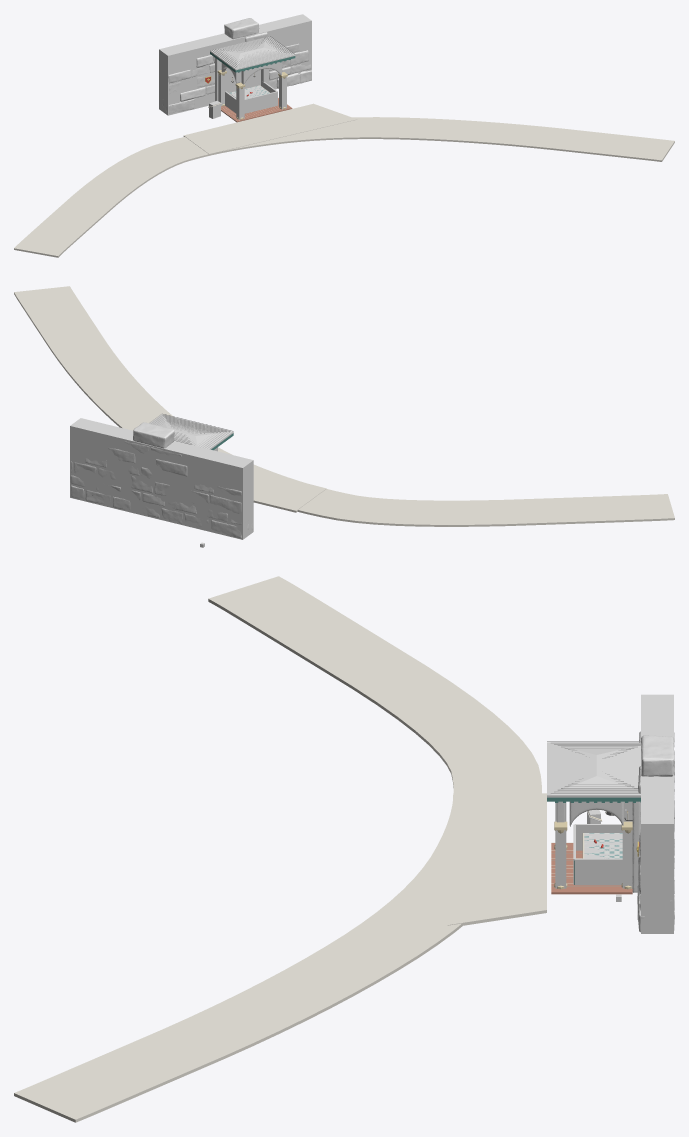
Rendered from RD_loggia.fbx.
3 renders of one model, top to bottom at view 1: azimuth 30°, elevation 25°; view 2: azimuth 150°, elevation 25°; view 3: azimuth 270°, elevation 25°, orthographic. The views are drawn at different scales.
Visible parts, largest first — view 1: static__MAT_grind_0, COLL_9, static__TEX_pannen_0, static__TEX_rots_2, static__TEX_rots_6, static__TEX_rots_0, static__TEX_rots_1, static__TEX_stuc_0, static__TEX_rots_3, COLL_7, static__MAT_baksteen_0, static__TEX_mural_0; view 2: static__MAT_grind_0, COLL_9, static__TEX_rots_1, static__TEX_rots_0, static__TEX_pannen_0, static__TEX_rots_6, static__TEX_rots_2, static__TEX_rots_4, static__TEX_rots_5, static__TEX_rots_3; view 3: static__MAT_grind_0, COLL_9, static__TEX_pannen_0, COLL_8, static__MAT_baksteen_0, static__TEX_rots_6, static__TEX_stuc_1, static__TEX_rots_1, static__TEX_stuc_0, COLL_5.
Boxes of the visible parts, x1,y1,x2,y2 form: static__MAT_grind_0: (14, 103, 674, 257); COLL_9: (159, 14, 311, 115); static__TEX_pannen_0: (210, 36, 295, 70); static__TEX_rots_2: (162, 44, 311, 112); static__TEX_rots_6: (224, 18, 300, 88); static__TEX_rots_0: (163, 34, 231, 113); static__TEX_rots_1: (224, 18, 290, 87); static__TEX_stuc_0: (215, 58, 282, 101); static__TEX_rots_3: (192, 55, 214, 97); COLL_7: (244, 91, 277, 113); static__MAT_baksteen_0: (221, 98, 292, 122); static__TEX_mural_0: (225, 68, 260, 90); static__MAT_grind_0: (14, 286, 674, 526); COLL_9: (70, 418, 253, 539); static__TEX_rots_1: (97, 422, 174, 517); static__TEX_rots_0: (162, 442, 252, 537); static__TEX_pannen_0: (149, 413, 233, 449); static__TEX_rots_6: (87, 422, 174, 509); static__TEX_rots_2: (70, 458, 253, 538); static__TEX_rots_4: (149, 441, 180, 523); static__TEX_rots_5: (123, 440, 154, 515); static__TEX_rots_3: (180, 454, 215, 530); static__MAT_grind_0: (14, 576, 546, 1122); COLL_9: (641, 694, 673, 933); static__TEX_pannen_0: (547, 741, 640, 797); COLL_8: (574, 858, 622, 885); static__MAT_baksteen_0: (551, 843, 632, 894); static__TEX_rots_6: (637, 735, 674, 920); static__TEX_stuc_1: (569, 801, 640, 892); static__TEX_rots_1: (637, 735, 674, 903); static__TEX_stuc_0: (556, 801, 640, 889); COLL_5: (584, 833, 622, 858).
Size of the model in its own units: 46.61 by 7.24 by 23.95.
